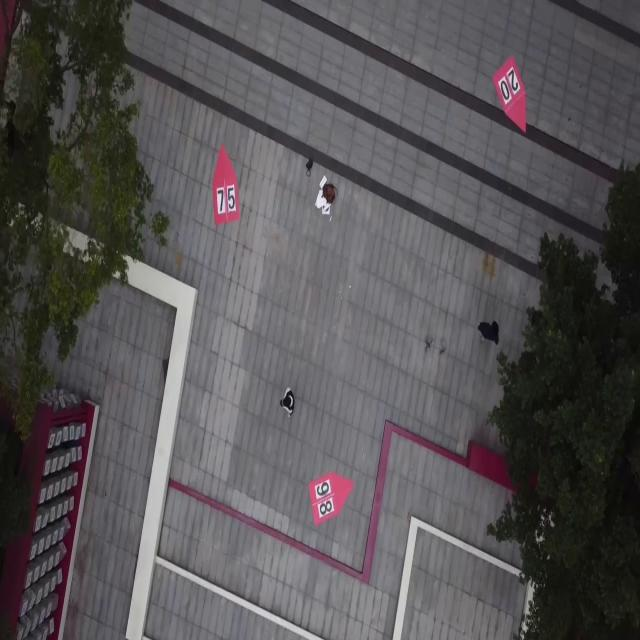-sign-: (493, 54, 527, 132), (309, 471, 352, 526), (212, 143, 240, 226)
